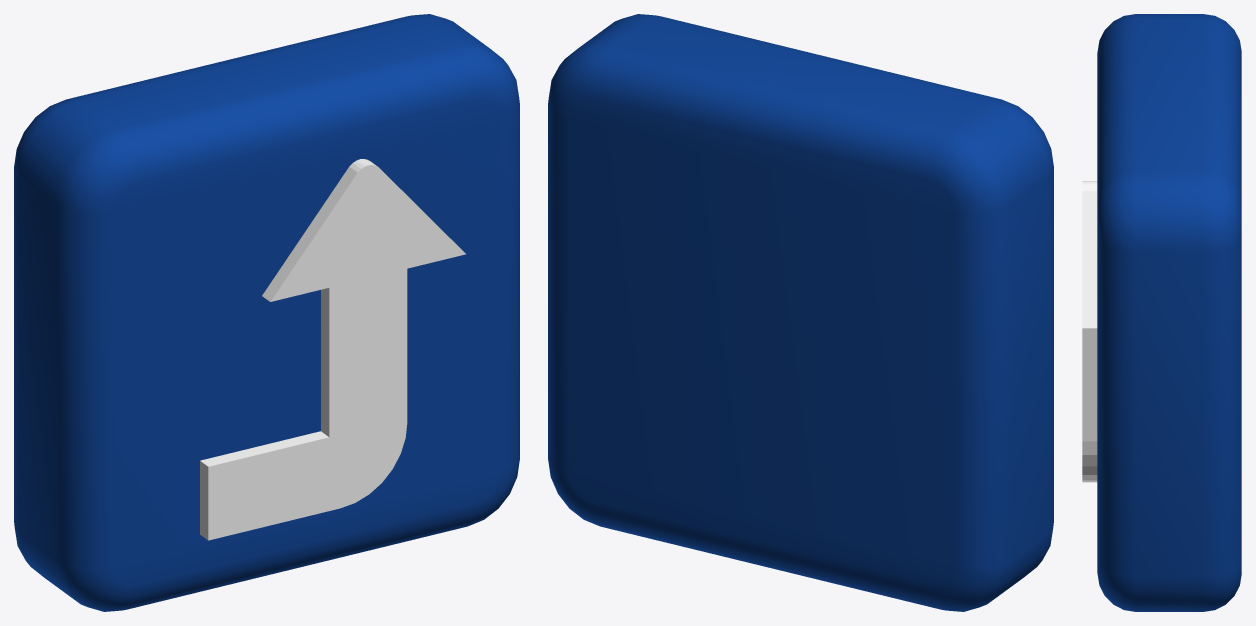
Rendered from right_arrow_curving_up.glb.
3 views of the same model, side by side, from view 1: azimuth 30°, elevation 25°; view 2: azimuth 150°, elevation 25°; view 3: azimuth 270°, elevation 25° (orthographic). The views are drawn at different scales.
Parts seen in each view (by area): view 1: Cube.6337; view 2: Cube.6337; view 3: Cube.6337.
Boxes of the visible parts, bbox=[...] form: Cube.6337: bbox=[14, 14, 519, 611]; Cube.6337: bbox=[548, 14, 1053, 611]; Cube.6337: bbox=[1082, 14, 1241, 611].
Bounding box in the file's own units: 2.2 × 2.2 × 0.73.
1 material, 1 textured.
